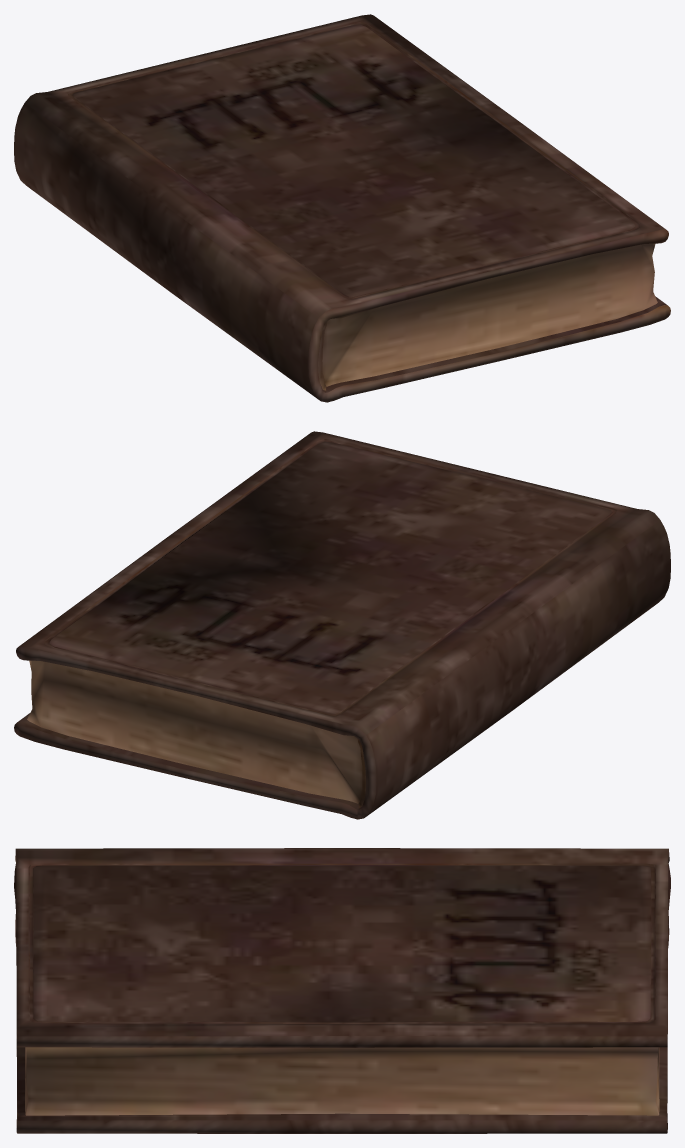
The model's file is obj_old_book_3.glb.
The picture shows the model from 3 angles, top to bottom: view 1: azimuth 30°, elevation 25°; view 2: azimuth 150°, elevation 25°; view 3: azimuth 270°, elevation 25°; orthographic projection. The views are drawn at different scales.
Visible parts, largest first — view 1: defaultMaterial; view 2: defaultMaterial; view 3: defaultMaterial.
Boxes of the visible parts, x1=… form: defaultMaterial: x1=14, y1=14, x2=670, y2=402; defaultMaterial: x1=14, y1=431, x2=670, y2=819; defaultMaterial: x1=14, y1=848, x2=670, y2=1133.
Size of the model in its own units: 0.1912 by 0.0479 by 0.27.
Materials: 1 (1 with a texture image).
